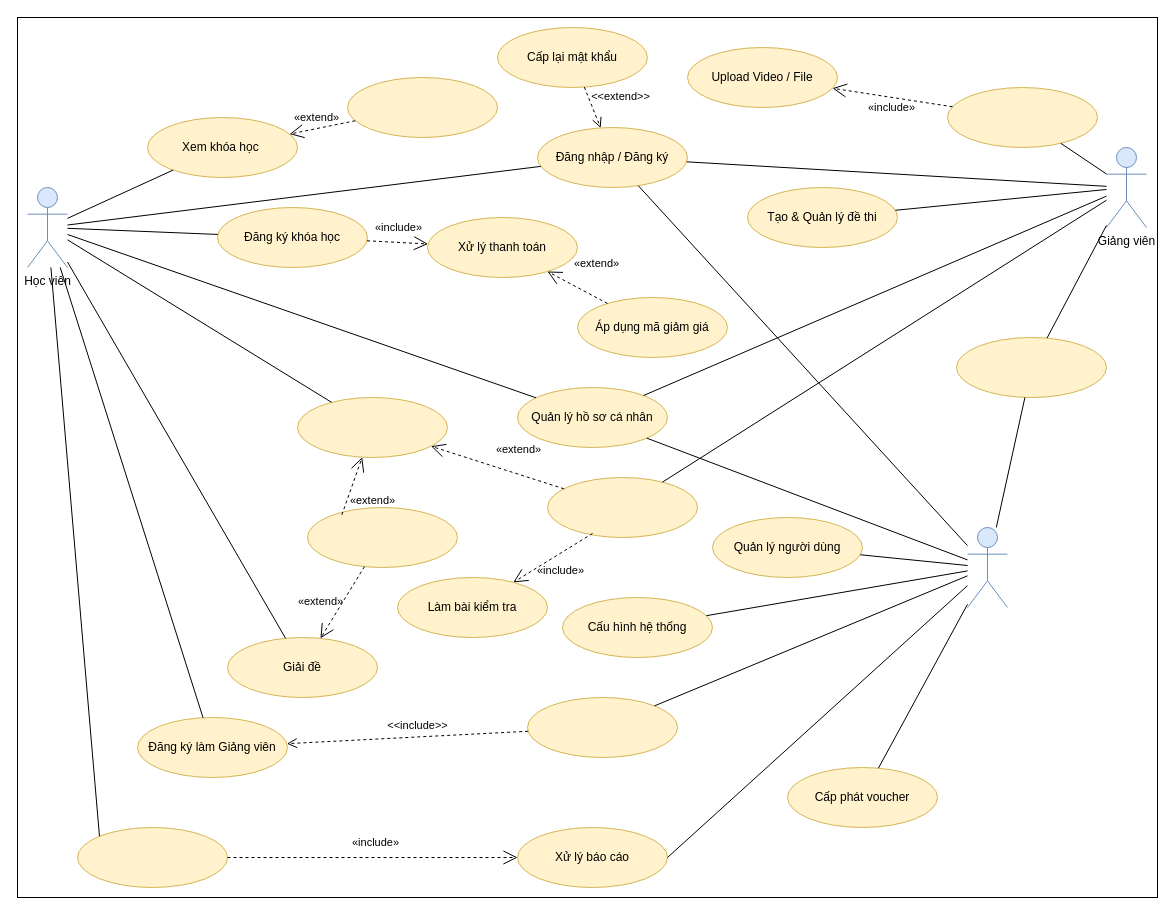
This 1175x915 diagram has some shape labels left out. Here are the shapes that lost their labels. From the top down, the box of each, then its label:
(346, 76, 498, 138): Tìm kiếm khóa học
(946, 86, 1098, 148): Tạo & Quản lý nội dung khóa học
(956, 336, 1106, 398): Xem báo cáo doanh thu
(296, 396, 448, 458): Học tập
(546, 476, 698, 538): Cấp chứng chỉ
(306, 506, 458, 568): Đánh giá & Thảo luận
(966, 526, 1008, 608): Quản trị viên
(526, 696, 678, 758): Duyệt yêu cầu Giảng viên
(76, 826, 228, 888): Báo cáo
